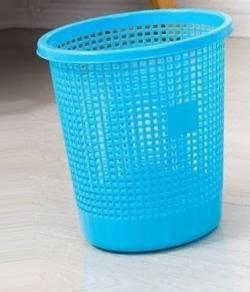Bote de Basura: (34, 4, 231, 259)
